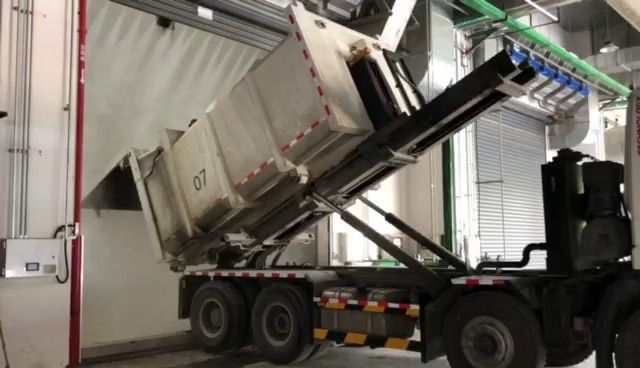truck: (101, 7, 640, 368)
